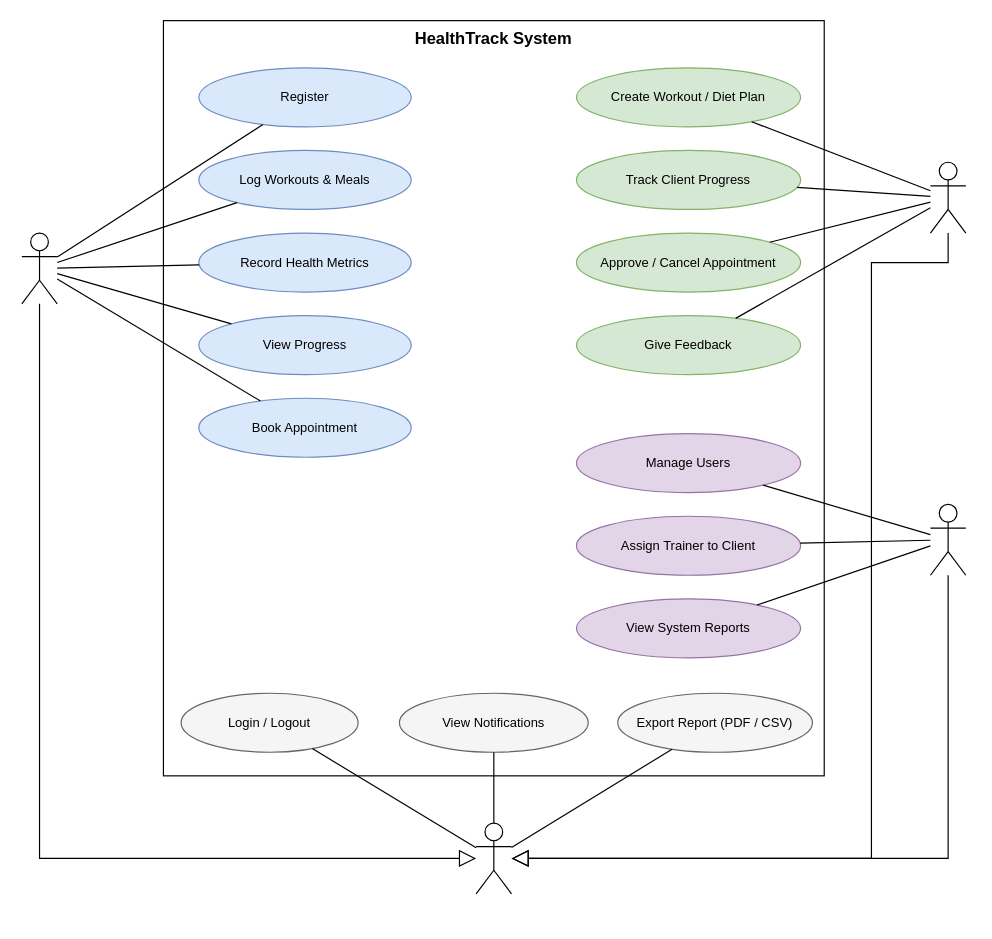
This 992x939 diagram has some shape labels left out. Each missing label, with the box of its shape:
Admin: (929, 503, 966, 575)
Client: (21, 232, 57, 304)
Trainer: (929, 161, 966, 233)
User: (475, 822, 512, 894)
